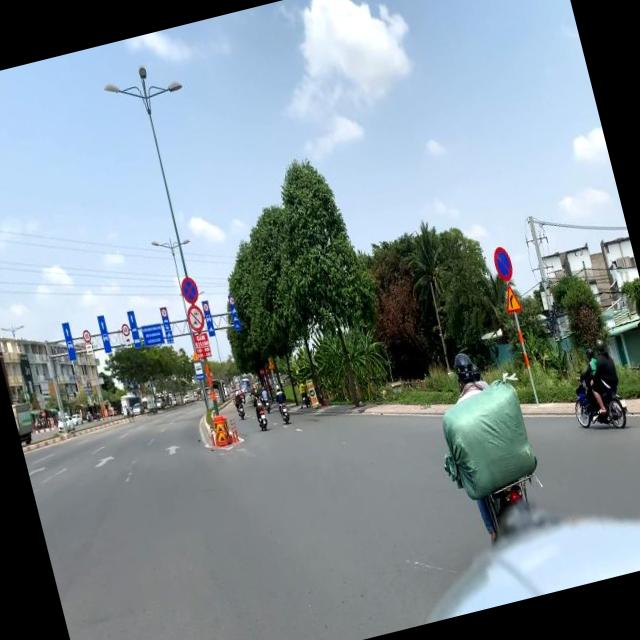P-130: (177, 272, 200, 304)
P-131a: (489, 243, 514, 282)
W-201b: (504, 285, 523, 311)
